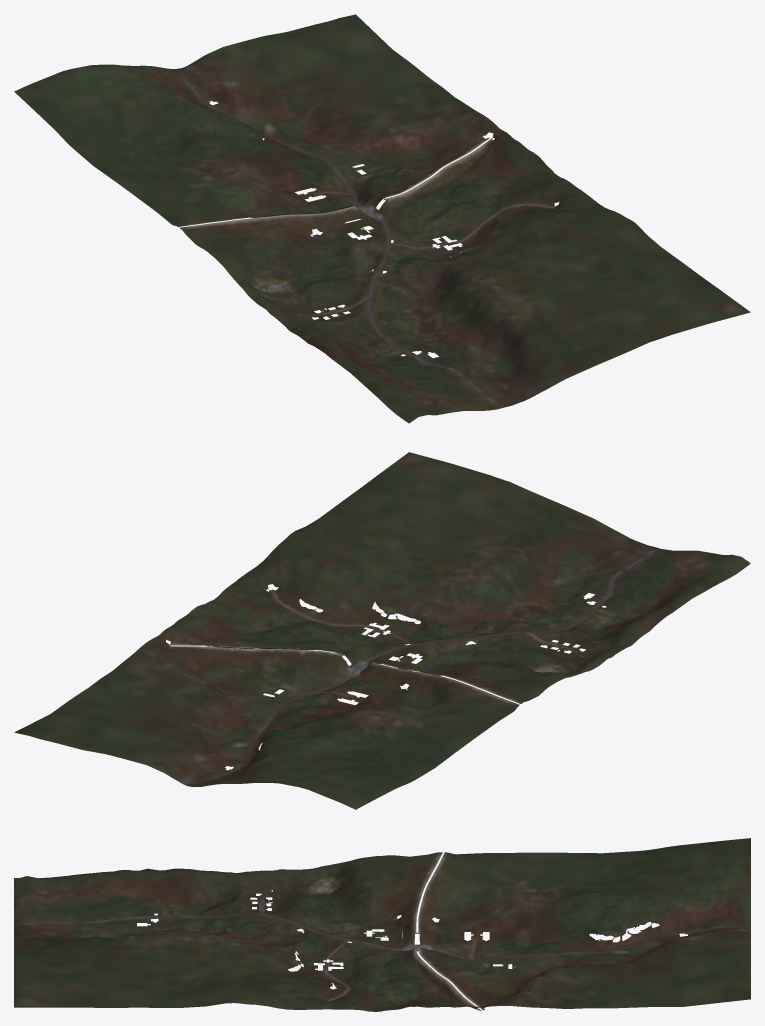
The model's file is cordongroundVTXcolor.fbx.
The picture shows the model from 3 angles, top to bottom: view 1: azimuth 30°, elevation 25°; view 2: azimuth 150°, elevation 25°; view 3: azimuth 270°, elevation 25°; orthographic projection. The views are drawn at different scales.
Parts seen in each view (by area): view 1: levels\escape_asfalt/terrain\terrain_escape.dds.007; view 2: levels\escape_asfalt/terrain\terrain_escape.dds.007; view 3: levels\escape_asfalt/terrain\terrain_escape.dds.007.
Boxes of the visible parts, bbox=[...] form: levels\escape_asfalt/terrain\terrain_escape.dds.007: bbox=[14, 14, 750, 423]; levels\escape_asfalt/terrain\terrain_escape.dds.007: bbox=[14, 452, 750, 809]; levels\escape_asfalt/terrain\terrain_escape.dds.007: bbox=[14, 838, 750, 1011].
Bounding box in the file's own units: 72210 × 12083 × 144546.
